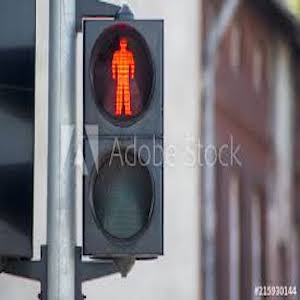red: (103, 35, 140, 116)
